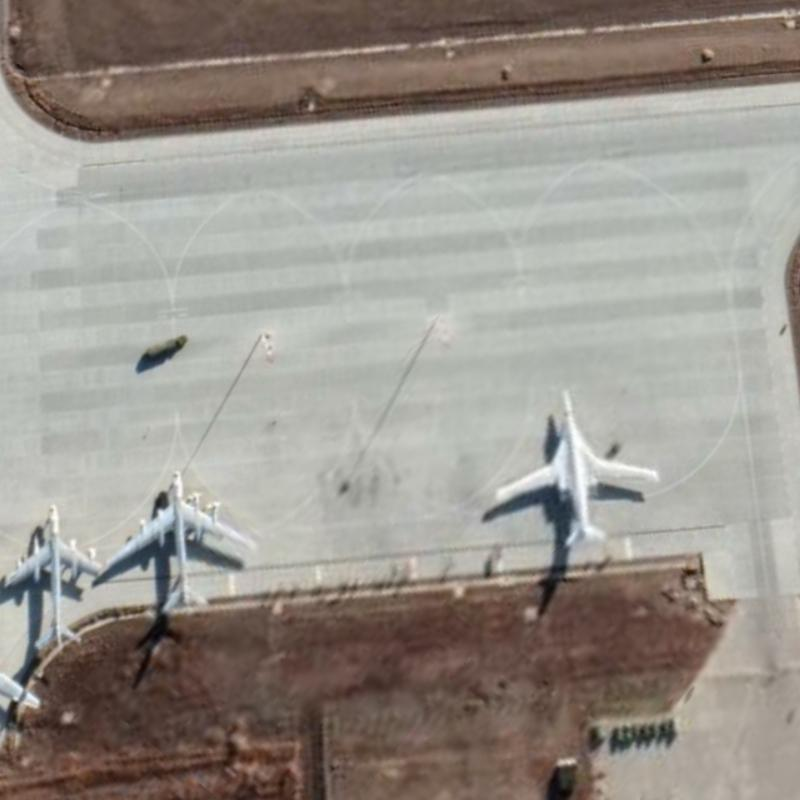A17: (107, 467, 256, 614), (0, 500, 106, 650)
A6: (491, 386, 662, 549)
